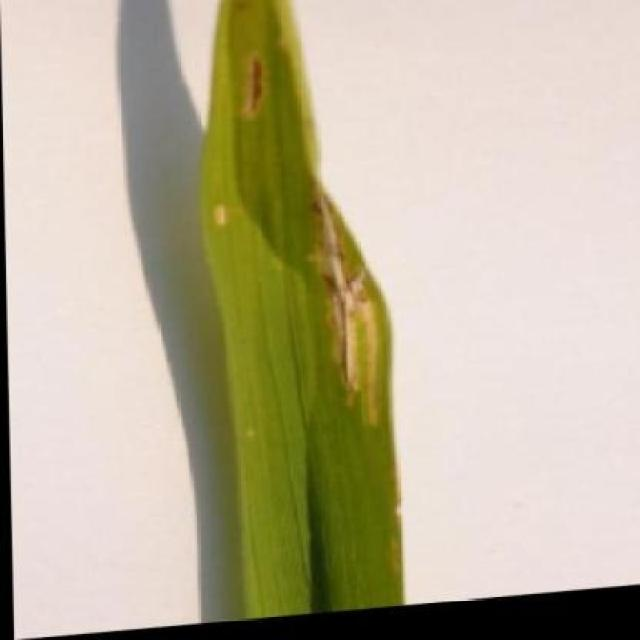Brown_Spot: (190, 0, 404, 628)
